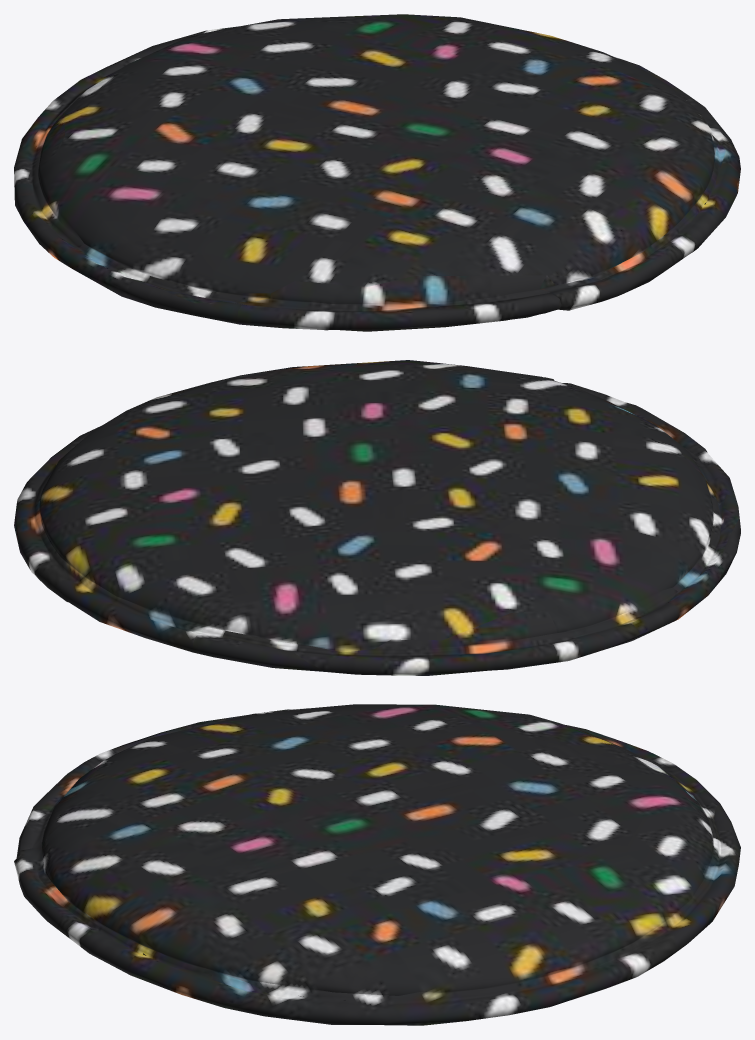
The model's file is 08 - PUGGEHATT Seat pad - dot patternround.glb.
3 views of the same model, one above another, from view 1: azimuth 30°, elevation 25°; view 2: azimuth 150°, elevation 25°; view 3: azimuth 270°, elevation 25° (orthographic).
Visible parts, largest first — view 1: ASY_ART_50613605_S01_NV01; view 2: ASY_ART_50613605_S01_NV01; view 3: ASY_ART_50613605_S01_NV01.
Boxes of the visible parts, x1,y1,x2,y2 form: ASY_ART_50613605_S01_NV01: (14, 14, 740, 331); ASY_ART_50613605_S01_NV01: (14, 360, 740, 675); ASY_ART_50613605_S01_NV01: (14, 704, 740, 1025).
Bounding box in the file's own units: 0.365 × 0.0446 × 0.3611.
1 material, 1 textured.
